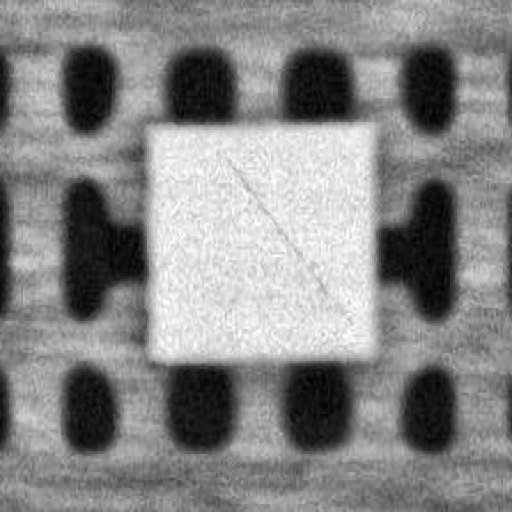DIE_CRACK: (335, 103, 512, 215)
